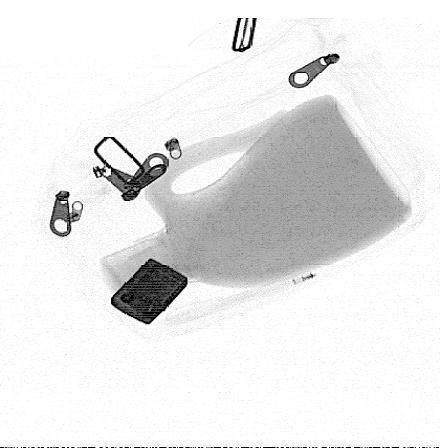Lighter: (110, 257, 189, 326)
